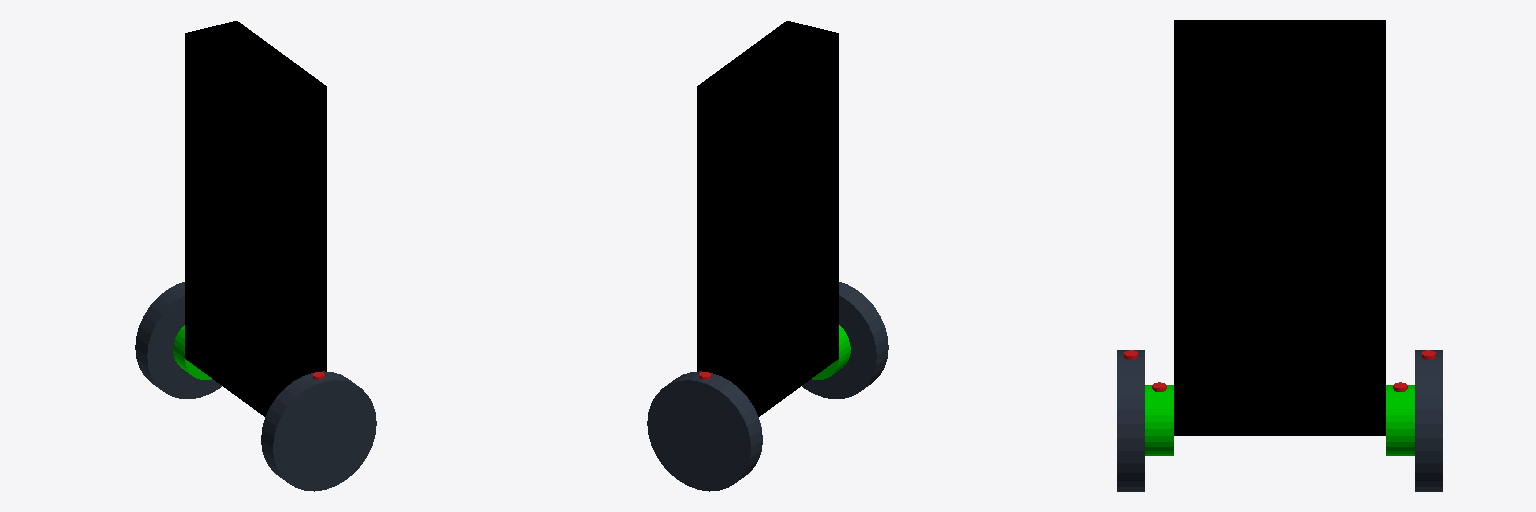
URDF robot description (balancio):
<?xml version="1.0" ?>
<robot name="balancio" xmlns:xacro="http://www.ros.org/wiki/xacro">

  <material name="black">
    <color rgba="0.0 0.0 0.0 0.4"/>
  </material>
  <material name="blue">
    <color rgba="0.203125 0.23828125 0.28515625 0.5"/>
  </material>
  <material name="green">
    <color rgba="0.0 0.8 0.0 0.5"/>
  </material>
  <material name="grey">
    <color rgba="0.8 0.8 0.8 1.0"/>
  </material>
  <material name="orange">
    <color rgba="1.0 0.423529411765 0.0392156862745 1.0"/>
  </material>
  <material name="brown">
    <color rgba="0.870588235294 0.811764705882 0.764705882353 1.0"/>
  </material>
  <material name="red">
    <color rgba="0.80078125 0.12890625 0.1328125 1.0"/>
  </material>
  <material name="white">
    <color rgba="1.0 1.0 1.0 1.0"/>
  </material>


 <!-- Base -->
	<!-- <link name="dummy_link"/>

  <joint name="base_joint" type="fixed">
    <origin rpy="0 0 0" xyz="0 0 0"/>
		<child link="link_chassis"/>
    <parent link="dummy_link"/>
  </joint> -->

  <link name="link_chassis">
    <!-- pose and inertial -->
    <pose>0 0 0 0 0 0</pose>
    <inertial>
      <mass value="0.5"/>
      <origin rpy="0 0 0" xyz="0 0 0"/>
      <inertia ixx="0.03" ixy="0" ixz="0" iyy="0.03" iyz="0" izz="0.03"/>
    </inertial>
    <!-- body -->
    <collision name="collision_chassis">
      <origin rpy="0 0 0" xyz="0 0 0"/>
      <geometry>
        <box size="0.1 0.3 0.6"/>
      </geometry>
    </collision>
    <visual>
      <origin rpy="0 0 0" xyz="0 0 0"/>
      <geometry>
        <box size="0.1 0.3 0.6"/>
        <!-- <mesh filename="package://robot_description/stl/Plank.stl" scale="1 1 1"/> -->
      </geometry>
      <material name="black"/>
    </visual>
  </link>


<!--Gearbox and Wheels -->
<!-- Left -->

  <joint name="joint_left_gb" type="continuous">  <!-- We set revolute with infinite limits as a workaround to sdf conversion problems -->
    <origin rpy="0 0 0" xyz="0 0.17 -0.3"/>
    <child link="link_left_gb"/>
    <parent link="link_chassis"/>
    <axis rpy="0 0 0" xyz="0 1 0"/>
    <limit effort="0.8" velocity="30"/>
    <dynamics damping="0.0005" friction="0.0005"/>  <!-- damping coefficient: [N*m*s/rad] 0.0005-->
    <safety_controller k_velocity="0.026"/>  <!-- Kv en este caso: Torque/vel (http://wiki.ros.org/pr2_controller_manager/safety_limits) -->
  </joint>

  <link name="link_left_gb">
    <inertial>
      <mass value="0.1"/>
      <origin rpy="0 1.5707 1.5707" xyz="0 0 0"/>
      <inertia ixx="0.0001" ixy="0" ixz="0" iyy="0.00005" iyz="0" izz="0.00005"/>
    </inertial>
    <collision name="link_left_gb_collision">
      <origin rpy="0 1.5707 1.5707" xyz="0 0 0"/>
      <geometry>
        <cylinder length="0.04" radius="0.05"/>
      </geometry>
    </collision>
    <visual name="link_left_gb_visual">
      <origin rpy="0 1.5707 1.5707" xyz="0 0 0"/>
      <geometry>
        <cylinder length="0.04" radius="0.05"/>
      </geometry>
      <material name="green"/>
    </visual>
  </link>

  <joint name="joint_left_wheel" type="revolute">  <!-- We set revolute with infinite limits as a workaround to sdf conversion problems -->
    <limit lower="-0.2" upper="0.2" />
    <origin rpy="0 0 0" xyz="0 0.04 0"/>
    <child link="link_left_wheel"/>
    <parent link="link_left_gb"/>
    <axis rpy="0 0 0" xyz="0 1 0"/>
    <limit effort="0.8" velocity="30"/>
    <dynamics damping="0.0005" friction="0.0005"/>  <!-- damping coefficient: [N*m*s/rad] 0.0005-->
    <safety_controller k_velocity="0.026"/>  <!-- Kv en este caso: Torque/vel (http://wiki.ros.org/pr2_controller_manager/safety_limits) -->
  </joint>

  <link name="link_left_wheel">
    <inertial>
      <mass value="0.1"/>
      <origin rpy="0 1.5707 1.5707" xyz="0 0 0"/>
      <inertia ixx="0.0001" ixy="0" ixz="0" iyy="0.00005" iyz="0" izz="0.00005"/>
    </inertial>
    <collision name="link_left_wheel_collision">
      <origin rpy="0 1.5707 1.5707" xyz="0 0 0"/>
      <geometry>
        <cylinder length="0.04" radius="0.1"/>
      </geometry>
    </collision>
    <visual name="link_left_wheel_visual">
      <origin rpy="0 1.5707 1.5707" xyz="0 0 0"/>
      <geometry>
        <cylinder length="0.04" radius="0.1"/>
      </geometry>
      <material name="blue"/>
    </visual>
  </link>


  <!-- DEBUG TEMPORAL - Start-->
  <joint name="joint_left_gb_marker" type="fixed">  <!-- We set revolute with infinite limits as a workaround to sdf conversion problems -->
    <origin rpy="0 0 0" xyz="0 0 0.05"/>
    <child link="link_left_gb_marker"/>
    <parent link="link_left_gb"/>
    <axis rpy="0 0 0" xyz="0 1 0"/>
  </joint>

  <link name="link_left_gb_marker">
    <inertial>
      <mass value="0.001"/>
      <origin rpy="0 1.5707 1.5707" xyz="0 0 0"/>
      <inertia ixx="0.0001" ixy="0" ixz="0" iyy="0.00005" iyz="0" izz="0.00005"/>
    </inertial>
    <collision name="link_left_gb_collision_marker">
      <origin rpy="0 1.5707 1.5707" xyz="0 0 0"/>
      <geometry>
        <cylinder length="0.01" radius="0.01"/>
      </geometry>
    </collision>
    <visual name="link_left_gb_visua_markerl">
      <origin rpy="0 0 0" xyz="0 0 0"/>
      <geometry>
        <cylinder length="0.01" radius="0.01"/>
      </geometry>
      <material name="red"/>
    </visual>
  </link>

  <joint name="joint_left_wheel_marker" type="fixed">  <!-- We set revolute with infinite limits as a workaround to sdf conversion problems -->
    <origin rpy="0 0 0" xyz="0 0 0.1"/>
    <child link="link_left_wheel_marker"/>
    <parent link="link_left_wheel"/>
    <axis rpy="0 0 0" xyz="0 1 0"/>
  </joint>

  <link name="link_left_wheel_marker">
    <inertial>
      <mass value="0.001"/>
      <origin rpy="0 1.5707 1.5707" xyz="0 0 0"/>
      <inertia ixx="0.0001" ixy="0" ixz="0" iyy="0.00005" iyz="0" izz="0.00005"/>
    </inertial>
    <collision name="link_left_wheel_collision_marker">
      <origin rpy="0 1.5707 1.5707" xyz="0 0 0"/>
      <geometry>
        <cylinder length="0.01" radius="0.01"/>
      </geometry>
    </collision>
    <visual name="link_left_wheel_visua_markerl">
      <origin rpy="0 0 0" xyz="0 0 0"/>
      <geometry>
        <cylinder length="0.01" radius="0.01"/>
      </geometry>
      <material name="red"/>
    </visual>
  </link>

  <!-- DEBUG TEMPORAL - End-->

<!-- Right -->

  <joint name="joint_right_gb" type="continuous">  <!-- We set revolute with infinite limits as a workaround to sdf conversion problems -->
    <origin rpy="0 0 0" xyz="0 -0.17 -0.3"/>
    <child link="link_right_gb"/>
    <parent link="link_chassis"/>
    <axis rpy="0 0 0" xyz="0 1 0"/>
    <limit effort="0.8" velocity="30"/>
    <dynamics damping="0.0005" friction="0.0005"/>  <!-- damping coefficient: [N*m*s/rad] 0.0005-->
    <safety_controller k_velocity="0.026"/>  <!-- Kv en este caso: Torque/vel (http://wiki.ros.org/pr2_controller_manager/safety_limits) -->
  </joint>

  <link name="link_right_gb">
    <inertial>
      <mass value="0.1"/>
      <origin rpy="0 1.5707 1.5707" xyz="0 0 0"/>
      <inertia ixx="0.0001" ixy="0" ixz="0" iyy="0.00005" iyz="0" izz="0.00005"/>
    </inertial>
    <collision name="link_right_gb_collision">
      <origin rpy="0 1.5707 1.5707" xyz="0 0 0"/>
      <geometry>
        <cylinder length="0.04" radius="0.05"/>
      </geometry>
    </collision>
    <visual name="link_right_gb_visual">
      <origin rpy="0 1.5707 1.5707" xyz="0 0 0"/>
      <geometry>
        <cylinder length="0.04" radius="0.05"/>
      </geometry>
      <material name="green"/>
    </visual>
  </link>

  <joint name="joint_right_wheel" type="revolute">  <!-- We set revolute with infinite limits as a workaround to sdf conversion problems -->
    <limit lower="-0.2" upper="0.2" />
    <origin rpy="0 0 0" xyz="0 -0.04 0"/>
    <child link="link_right_wheel"/>
    <parent link="link_right_gb"/>
    <axis rpy="0 0 0" xyz="0 1 0"/>
		<limit effort="0.8" velocity="30"/>
    <!--<limit effort="0.8" velocity="30"/>-->
  	<dynamics damping="0.0005" friction="0.0005"/>  <!-- damping coefficient: [N*m*s/rad] -->
		<safety_controller k_velocity="0.026"/>  <!-- Kv en este caso: Torque/vel (http://wiki.ros.org/pr2_controller_manager/safety_limits) -->
  </joint>

  <link name="link_right_wheel">
    <inertial>
      <mass value="0.1"/>
      <origin rpy="0 1.5707 1.5707" xyz="0 0 0"/>
      <inertia ixx="0.0001" ixy="0" ixz="0" iyy="0.00005" iyz="0" izz="0.00005"/>
    </inertial>
    <collision name="link_right_wheel_collision">
      <origin rpy="0 1.5707 1.5707" xyz="0 0 0"/>
      <geometry>
        <cylinder length="0.04" radius="0.1"/>
      </geometry>
    </collision>
    <visual name="link_right_wheel_visual">
      <origin rpy="0 1.5707 1.5707" xyz="0 0 0"/>
      <geometry>
        <cylinder length="0.04" radius="0.1"/>
      </geometry>
      <material name="blue"/>
    </visual>
  </link>

  <!-- DEBUG TEMPORAL - Start-->
  <joint name="joint_right_gb_marker" type="fixed">  <!-- We set revolute with infinite limits as a workaround to sdf conversion problems -->
    <origin rpy="0 0 0" xyz="0 0 0.05"/>
    <child link="link_right_gb_marker"/>
    <parent link="link_right_gb"/>
    <axis rpy="0 0 0" xyz="0 1 0"/>
  </joint>

  <link name="link_right_gb_marker">
    <inertial>
      <mass value="0.001"/>
      <origin rpy="0 1.5707 1.5707" xyz="0 0 0"/>
      <inertia ixx="0.0001" ixy="0" ixz="0" iyy="0.00005" iyz="0" izz="0.00005"/>
    </inertial>
    <collision name="link_right_gb_collision_marker">
      <origin rpy="0 1.5707 1.5707" xyz="0 0 0"/>
      <geometry>
        <cylinder length="0.01" radius="0.01"/>
      </geometry>
    </collision>
    <visual name="link_right_gb_visua_markerl">
      <origin rpy="0 0 0" xyz="0 0 0"/>
      <geometry>
        <cylinder length="0.01" radius="0.01"/>
      </geometry>
      <material name="red"/>
    </visual>
  </link>

  <joint name="joint_right_wheel_marker" type="fixed">  <!-- We set revolute with infinite limits as a workaround to sdf conversion problems -->
    <origin rpy="0 0 0" xyz="0 0 0.1"/>
    <child link="link_right_wheel_marker"/>
    <parent link="link_right_wheel"/>
    <axis rpy="0 0 0" xyz="0 1 0"/>
  </joint>

  <link name="link_right_wheel_marker">
    <inertial>
      <mass value="0.001"/>
      <origin rpy="0 1.5707 1.5707" xyz="0 0 0"/>
      <inertia ixx="0.0001" ixy="0" ixz="0" iyy="0.00005" iyz="0" izz="0.00005"/>
    </inertial>
    <collision name="link_right_wheel_collision_marker">
      <origin rpy="0 1.5707 1.5707" xyz="0 0 0"/>
      <geometry>
        <cylinder length="0.01" radius="0.01"/>
      </geometry>
    </collision>
    <visual name="link_right_wheel_visua_markerl">
      <origin rpy="0 0 0" xyz="0 0 0"/>
      <geometry>
        <cylinder length="0.01" radius="0.01"/>
      </geometry>
      <material name="red"/>
    </visual>
  </link>

  <!-- DEBUG TEMPORAL - End-->

</robot>

--- Render facts (derived) ---
3 views of the same robot in one strip: view 1: azimuth 30°, elevation 25°; view 2: azimuth 150°, elevation 25°; view 3: azimuth 270°, elevation 25° (orthographic).
Model balancio with 9 links and 8 joints (2 revolute, 2 continuous, 4 fixed), rooted at link_chassis, posed all joints at 0.
Visible links, largest first — view 1: link_chassis, link_right_wheel, link_left_wheel, link_left_gb; view 2: link_chassis, link_left_wheel, link_right_wheel, link_right_gb; view 3: link_chassis, link_left_wheel, link_right_wheel, link_left_gb, link_right_gb.
Link boxes in pixels (x1=…): link_chassis: x1=185, y1=21, x2=326, y2=416; link_right_wheel: x1=261, y1=371, x2=376, y2=491; link_left_wheel: x1=135, y1=282, x2=221, y2=398; link_left_gb: x1=173, y1=325, x2=211, y2=379; link_chassis: x1=697, y1=21, x2=838, y2=416; link_left_wheel: x1=647, y1=371, x2=762, y2=491; link_right_wheel: x1=802, y1=282, x2=888, y2=398; link_right_gb: x1=812, y1=325, x2=850, y2=379; link_chassis: x1=1174, y1=20, x2=1385, y2=435; link_left_wheel: x1=1415, y1=350, x2=1442, y2=491; link_right_wheel: x1=1117, y1=350, x2=1144, y2=491; link_left_gb: x1=1386, y1=385, x2=1414, y2=455; link_right_gb: x1=1145, y1=385, x2=1173, y2=455.
Size in the robot's own frame: 0.2 by 0.46 by 0.7 metres.
Geometry: primitives only (box / cylinder / sphere), no mesh files.